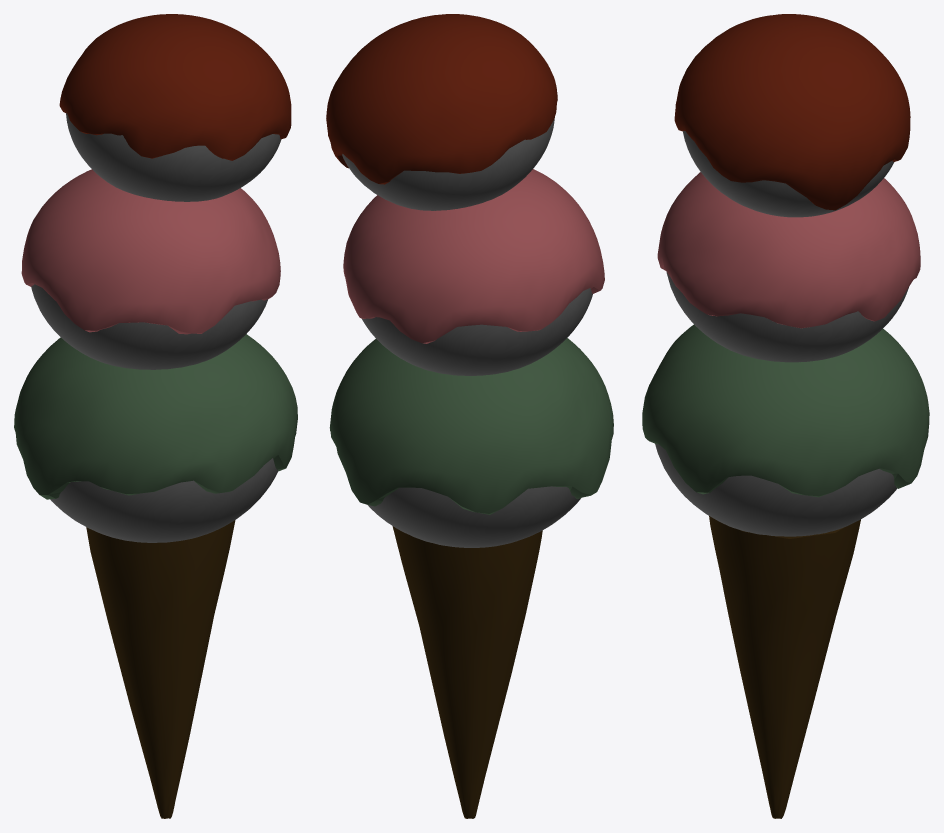
The picture shows the model from 3 angles, left to right: view 1: azimuth 30°, elevation 25°; view 2: azimuth 150°, elevation 25°; view 3: azimuth 270°, elevation 25°; orthographic projection.
Parts seen in each view (by area): view 1: icing_002, icing_001, icing, tool_icecream, icecream_ball_002, icecream_ball, icecream_ball_001; view 2: icing_002, icing_001, icing, tool_icecream, icecream_ball_002, icecream_ball_001, icecream_ball; view 3: icing_002, icing, icing_001, tool_icecream, icecream_ball_002, icecream_ball_001, icecream_ball.
Part boxes in pixels (x1=…): icing_002: x1=14, y1=334, x2=297, y2=499; icing_001: x1=21, y1=169, x2=280, y2=334; icing: x1=59, y1=14, x2=291, y2=160; tool_icecream: x1=86, y1=520, x2=235, y2=818; icecream_ball_002: x1=50, y1=458, x2=278, y2=542; icecream_ball: x1=66, y1=113, x2=281, y2=201; icecream_ball_001: x1=31, y1=284, x2=268, y2=369; icing_002: x1=329, y1=338, x2=613, y2=514; icing_001: x1=343, y1=169, x2=604, y2=343; icing: x1=326, y1=14, x2=557, y2=184; tool_icecream: x1=392, y1=526, x2=542, y2=818; icecream_ball_002: x1=368, y1=486, x2=580, y2=547; icecream_ball_001: x1=361, y1=288, x2=592, y2=375; icecream_ball: x1=342, y1=117, x2=554, y2=210; icing_002: x1=642, y1=324, x2=929, y2=497; icing: x1=674, y1=14, x2=910, y2=210; icing_001: x1=657, y1=172, x2=920, y2=328; tool_icecream: x1=709, y1=516, x2=860, y2=818; icecream_ball_002: x1=655, y1=443, x2=897, y2=536; icecream_ball_001: x1=666, y1=272, x2=908, y2=362; icecream_ball: x1=683, y1=131, x2=894, y2=217.
Bounding box in the file's own units: 18.63 × 18.42 × 56.37.
